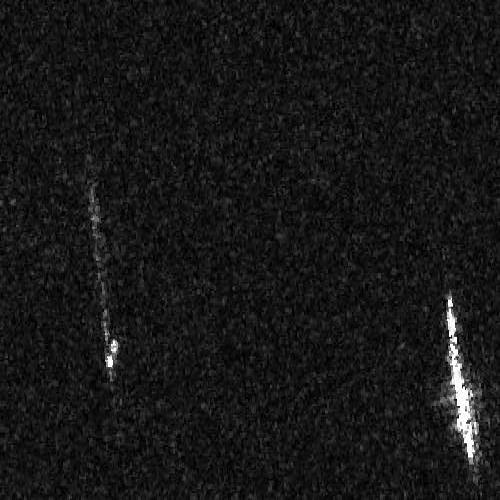ship: (88, 186, 120, 371), (446, 294, 477, 466)
